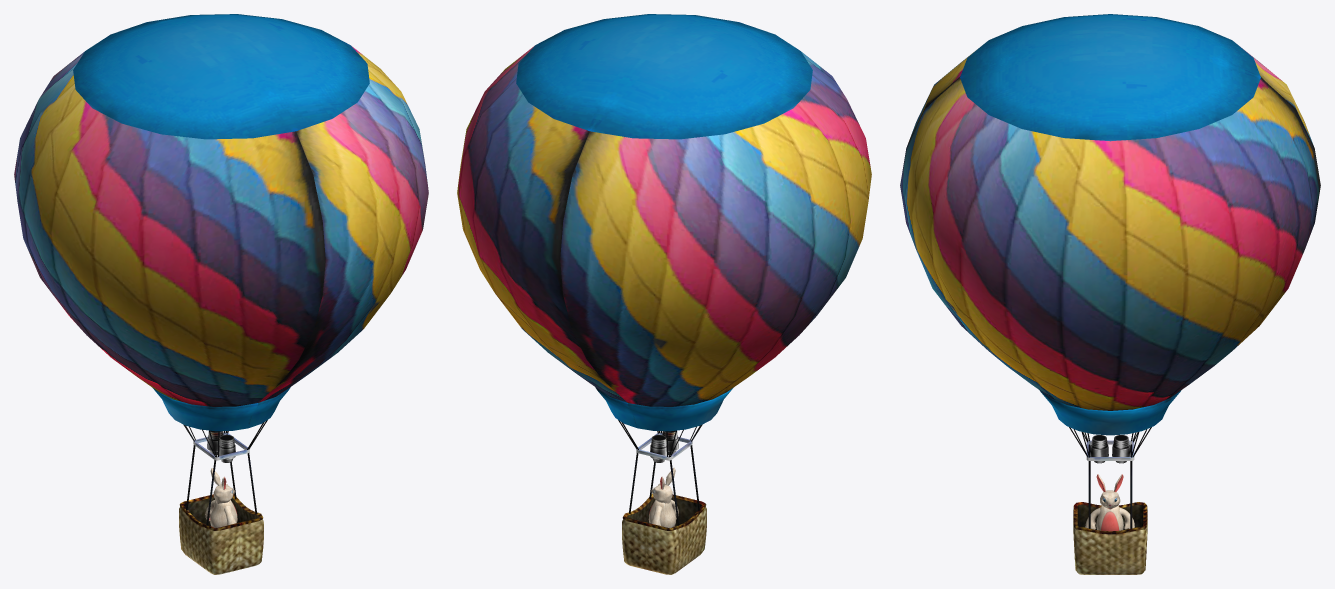
File: bunny2.gltf
The picture shows the model from 3 angles, left to right: view 1: azimuth 30°, elevation 25°; view 2: azimuth 150°, elevation 25°; view 3: azimuth 270°, elevation 25°; orthographic projection.
Parts seen in each view (by area): view 1: bunny; view 2: bunny; view 3: bunny.
Boxes of the visible parts, <box> form: bunny: <box>14,14,428,574</box>; bunny: <box>457,14,871,574</box>; bunny: <box>900,14,1320,574</box>.
Size of the model in its own units: 32.72 by 45 by 32.72.
Materials: 3 (3 with a texture image).
